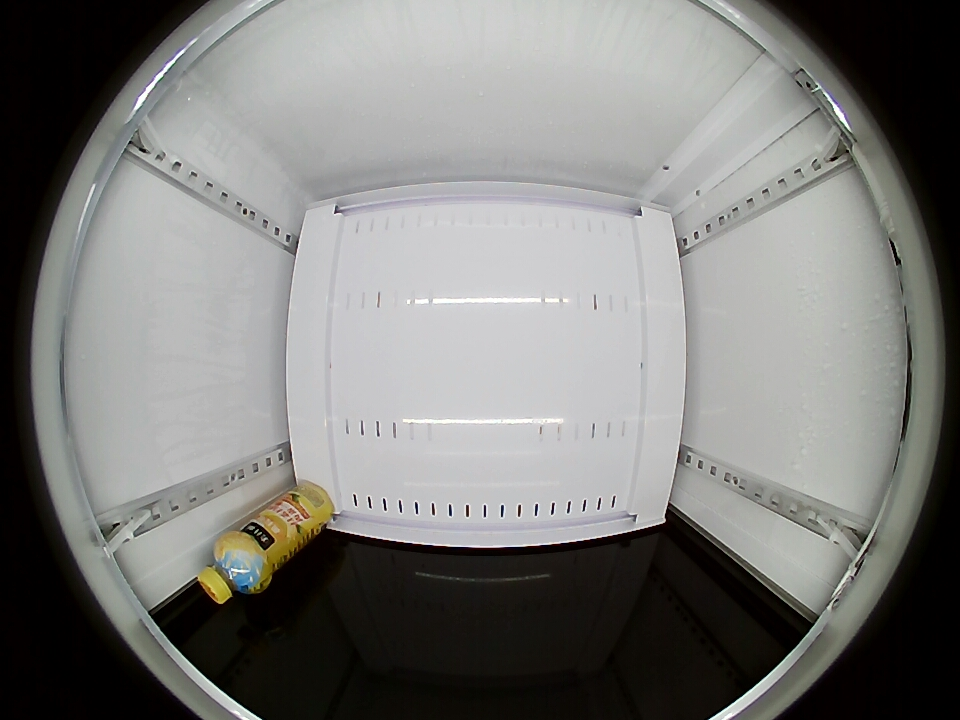guolicheng: (198, 532, 271, 605)
